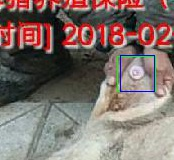text: (117, 56, 155, 91)
